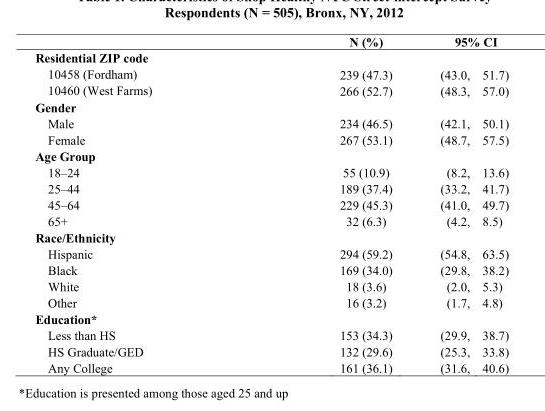table: (34, 34, 508, 374)
table column: (34, 34, 245, 374), (245, 34, 415, 374), (415, 34, 508, 374)
table column header: (34, 34, 508, 49)
table projected row header: (34, 98, 508, 115), (34, 49, 508, 65), (34, 147, 508, 163), (34, 229, 508, 245), (34, 310, 508, 326)
table row: (34, 81, 508, 98), (34, 98, 508, 115), (34, 163, 508, 180), (34, 212, 508, 229), (34, 277, 508, 294), (34, 342, 508, 359), (34, 49, 508, 65), (34, 65, 508, 81), (34, 115, 508, 131), (34, 131, 508, 147), (34, 147, 508, 163), (34, 180, 508, 196), (34, 196, 508, 212), (34, 229, 508, 245), (34, 245, 508, 261), (34, 261, 508, 277), (34, 294, 508, 310), (34, 310, 508, 326), (34, 326, 508, 342), (34, 34, 508, 49), (34, 359, 508, 374)
